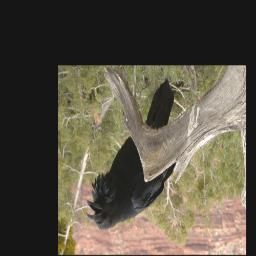Crow: (85, 78, 177, 230)
